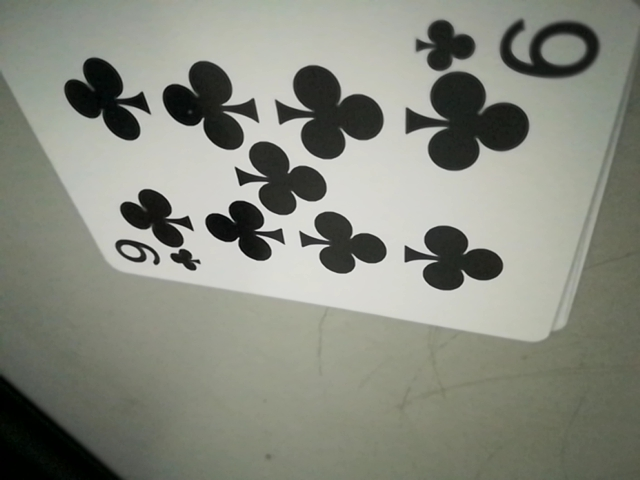mh 9: (414, 7, 603, 78), (109, 239, 205, 278)
